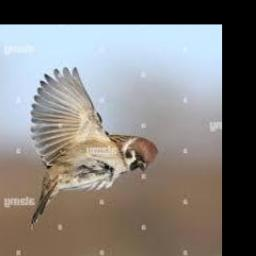Sparrow: (31, 67, 159, 231)
